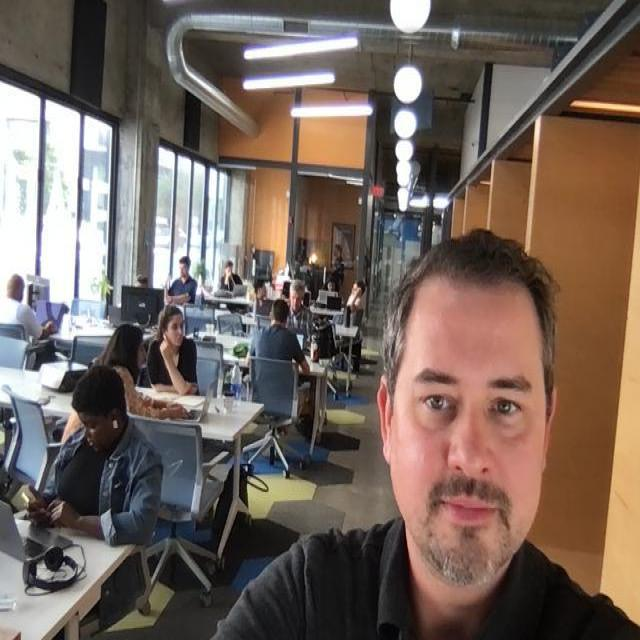face: (377, 232, 552, 595), (72, 363, 126, 464), (111, 323, 148, 373), (160, 304, 184, 348), (287, 281, 303, 312), (350, 278, 366, 302), (177, 255, 190, 280), (222, 261, 234, 280), (255, 283, 267, 300)
